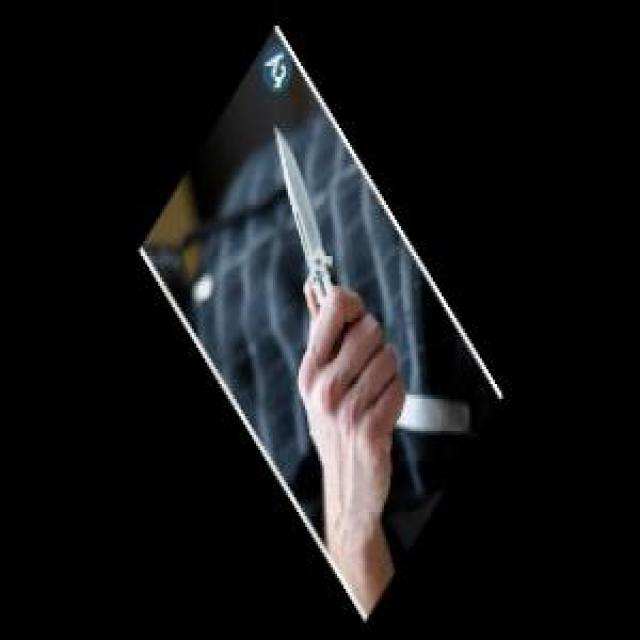knife: (273, 118, 378, 436)
